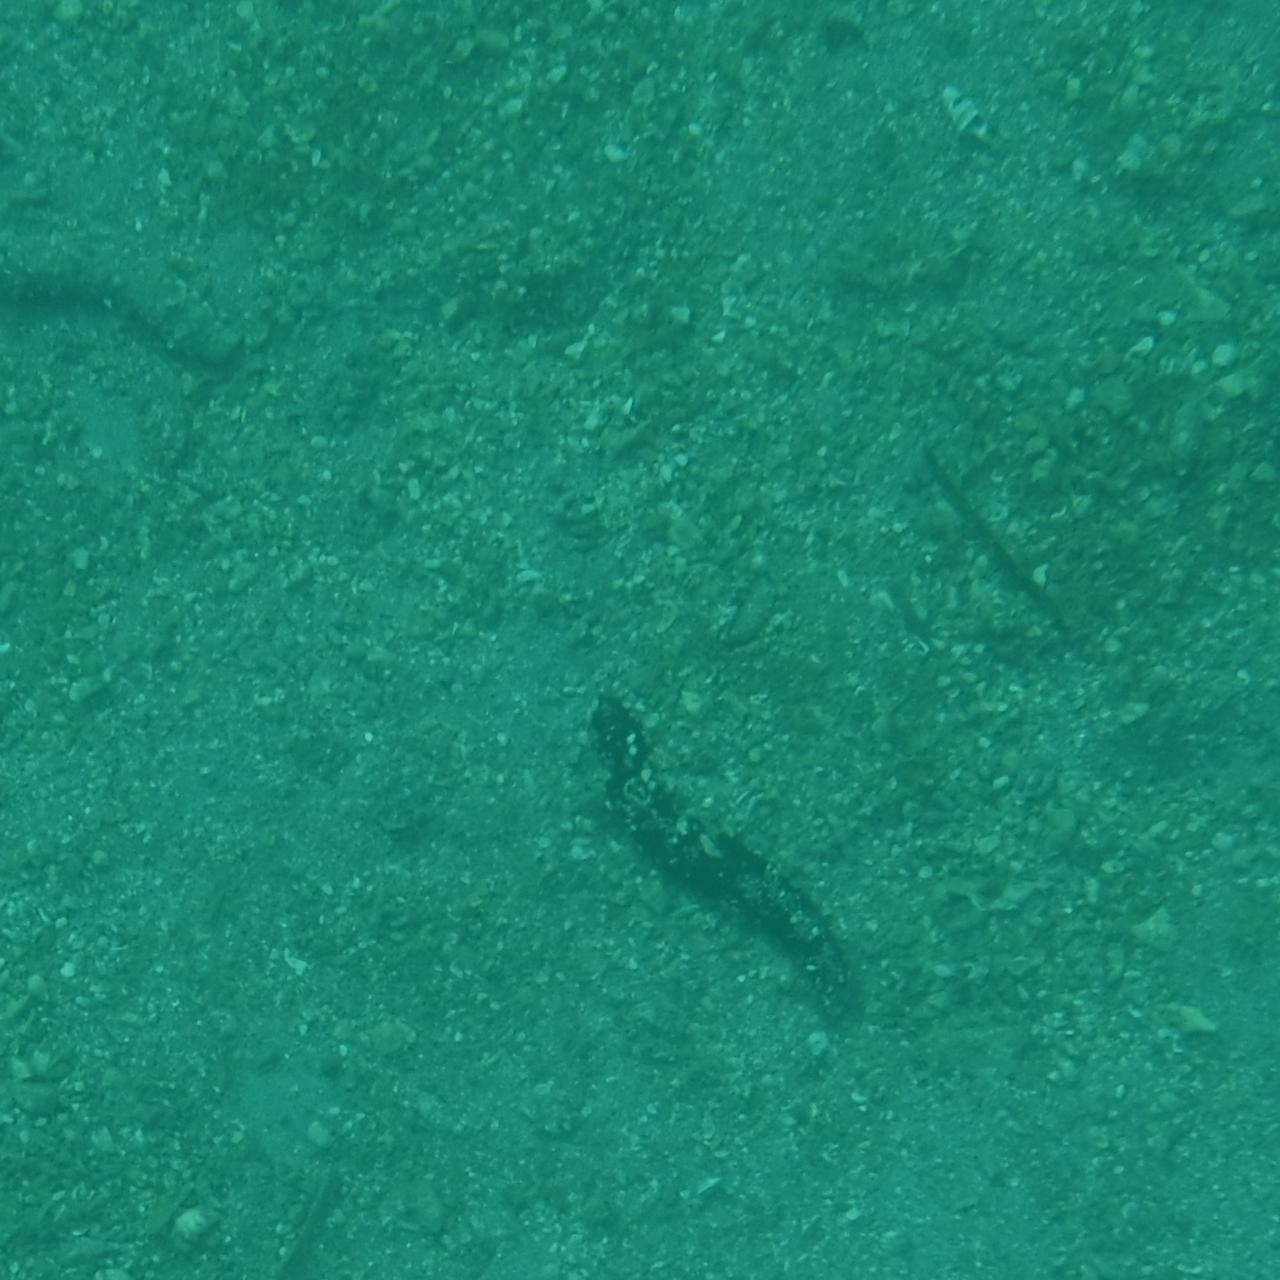Holothuria tubulosa: (577, 690, 855, 1023), (837, 1107, 1144, 1280), (0, 209, 240, 397), (1129, 527, 1280, 809), (1162, 134, 1280, 472), (1193, 397, 1280, 831), (0, 539, 210, 702), (57, 0, 411, 79), (1104, 1124, 1280, 1280), (1129, 1141, 1280, 1280), (0, 258, 217, 354), (142, 1108, 240, 1280), (0, 0, 102, 152)
